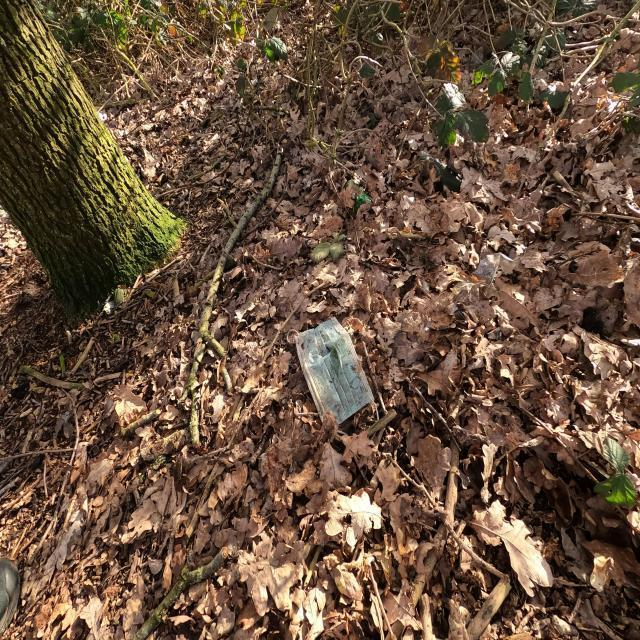Mask: (286, 315, 380, 437)
